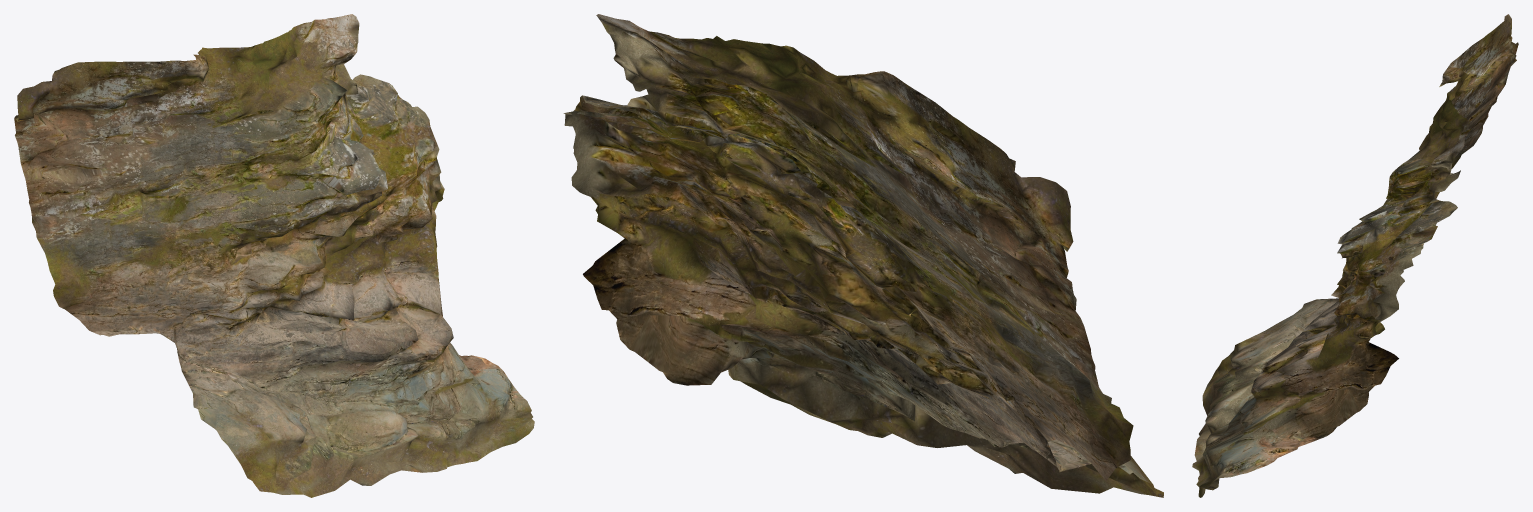
File: cliff_face_02.glb
3 views of the same model, side by side, from view 1: azimuth 30°, elevation 25°; view 2: azimuth 150°, elevation 25°; view 3: azimuth 270°, elevation 25° (orthographic). The views are drawn at different scales.
Visible parts, largest first — view 1: cliff_face_02; view 2: cliff_face_02; view 3: cliff_face_02.
Boxes of the visible parts, box(x1,y1,x2,y2) form: cliff_face_02: box(14, 14, 534, 497); cliff_face_02: box(563, 14, 1163, 497); cliff_face_02: box(1192, 14, 1518, 497).
Size of the model in its own units: 2.71 by 2.48 by 2.13.
1 material, 1 textured.
